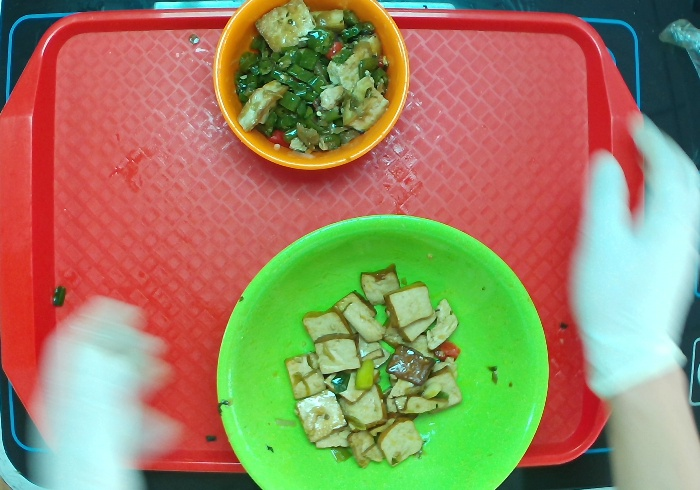YKMZ-Ju_Se_Yuan_Wan: (201, 1, 414, 174)
YKMZ-Lv_Se_Tang_Wan: (212, 214, 551, 490)
